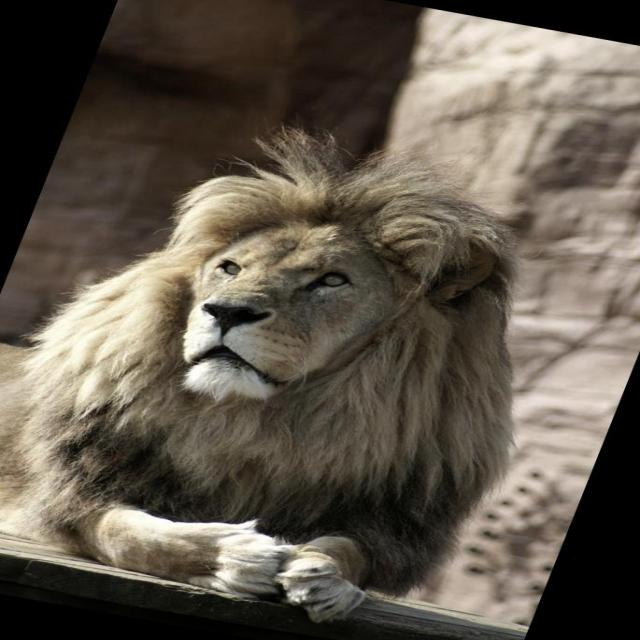Lion: (0, 78, 628, 640)
